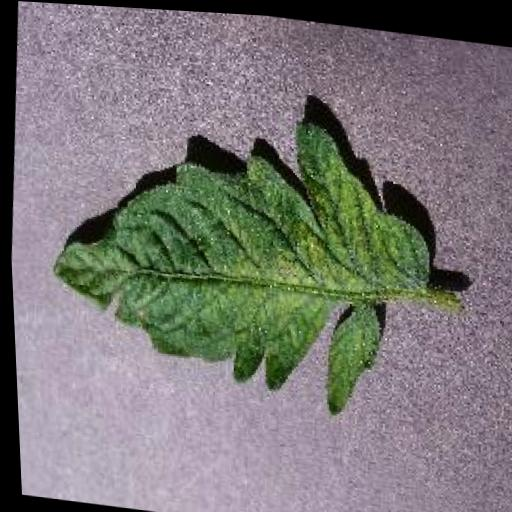Mosaic Virus: (33, 78, 446, 423)
